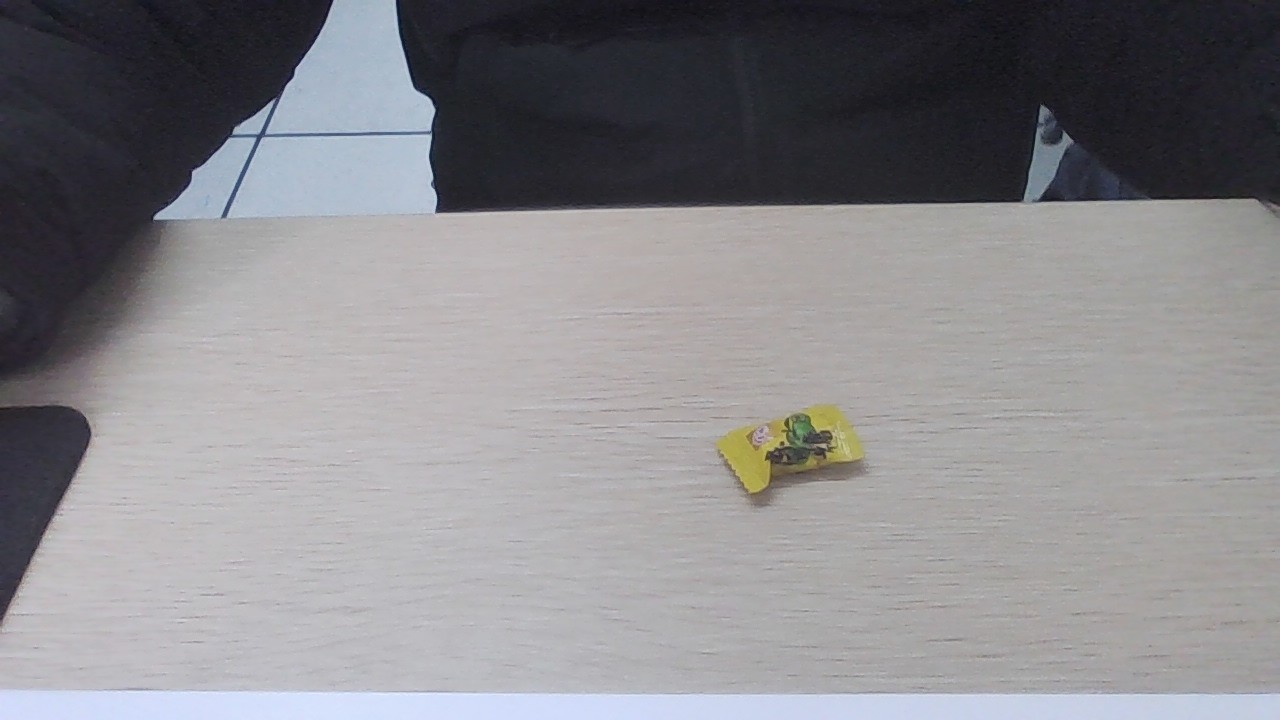CY-sugar: (720, 411, 860, 502)
